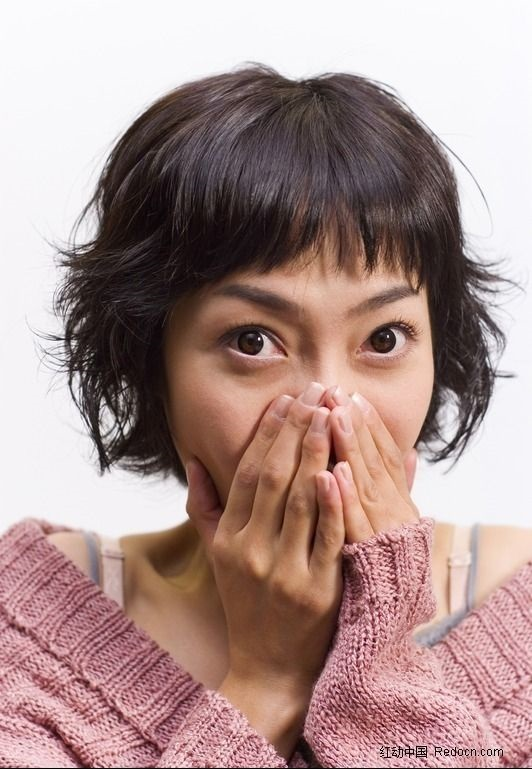face: (173, 181, 432, 542)
